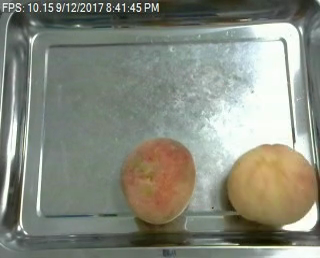Peach: (227, 142, 317, 229), (120, 137, 196, 223)
